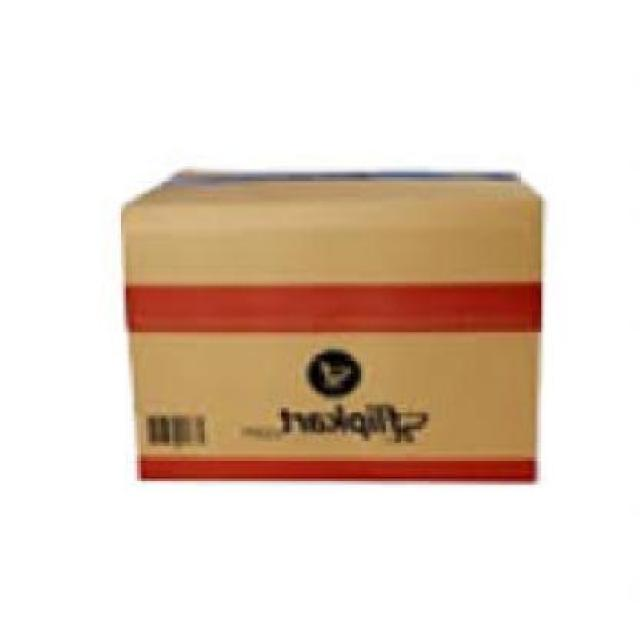CARDBOARD: (125, 163, 547, 477)
